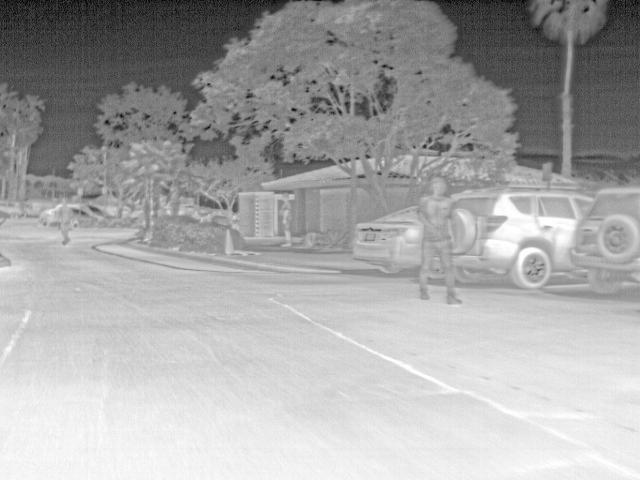car: (457, 186, 594, 290), (571, 187, 639, 296), (352, 204, 418, 276), (69, 202, 97, 228), (70, 200, 102, 220), (42, 206, 58, 227)
person: (418, 174, 463, 305), (277, 192, 294, 250), (57, 196, 71, 246)
